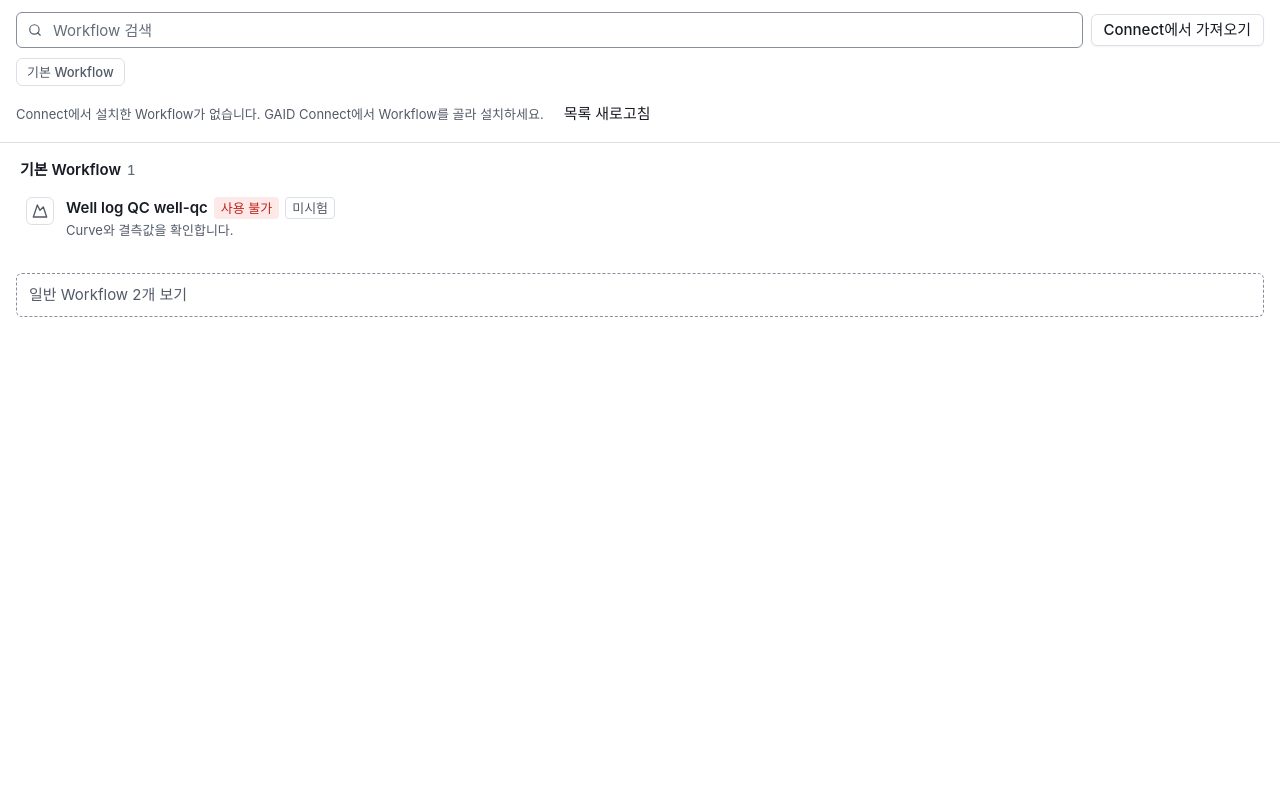
Test case: task catalogue and setup › separates run record from readiness: unavailable
Expected: the text "사용 불가" is shown, [214,197,279,219]
Step 1. Click the button "Well log QC well-qc 사용 불가 미시험 Curve와 결측값을 확인합니다." → point(137, 208), box [16,187,1264,249]
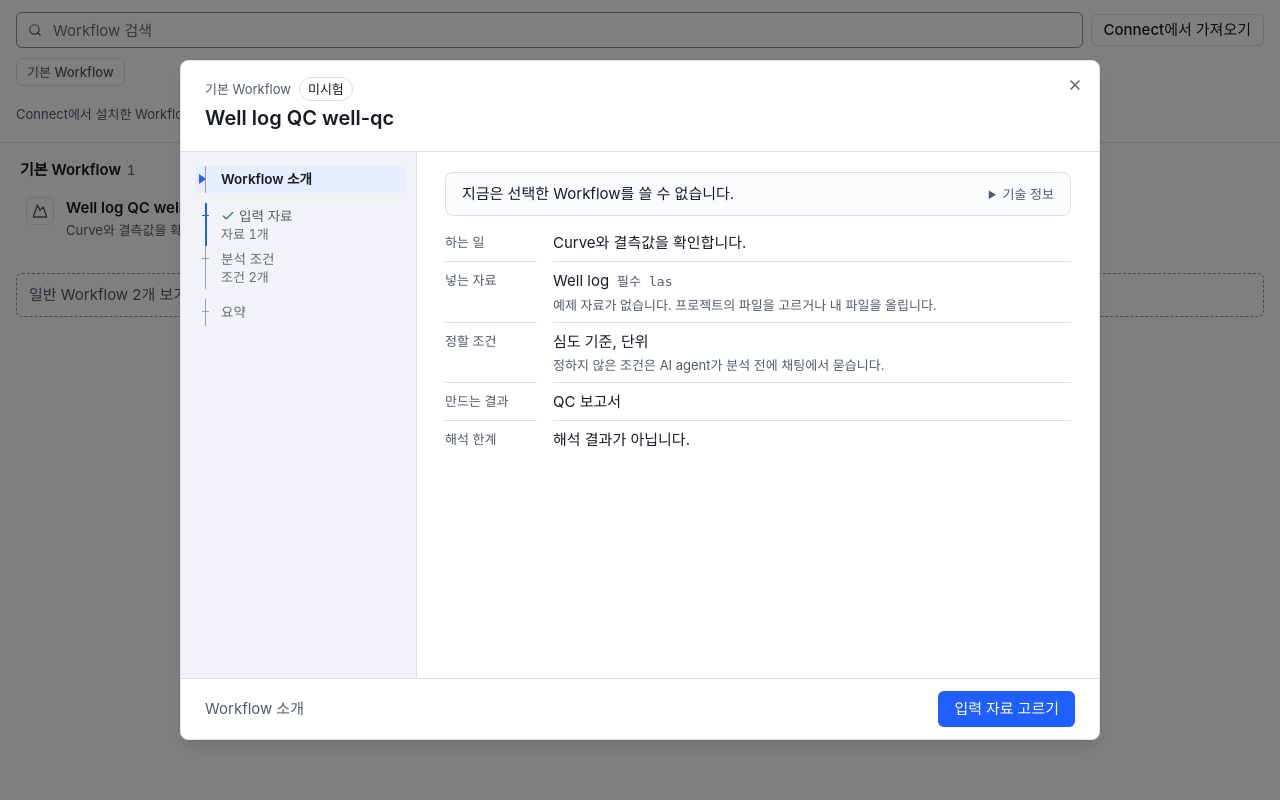
Now the text "지금은 선택한 Workflow를 쓸 수 없습니다." is shown, box [462,184,734,202]
Now the element named "Workflow 소개" is shown, box [445,172,1071,216]
Step 2. Click the tab "입력 자료 자료 1개" → point(300, 224), box [195,202,406,246]
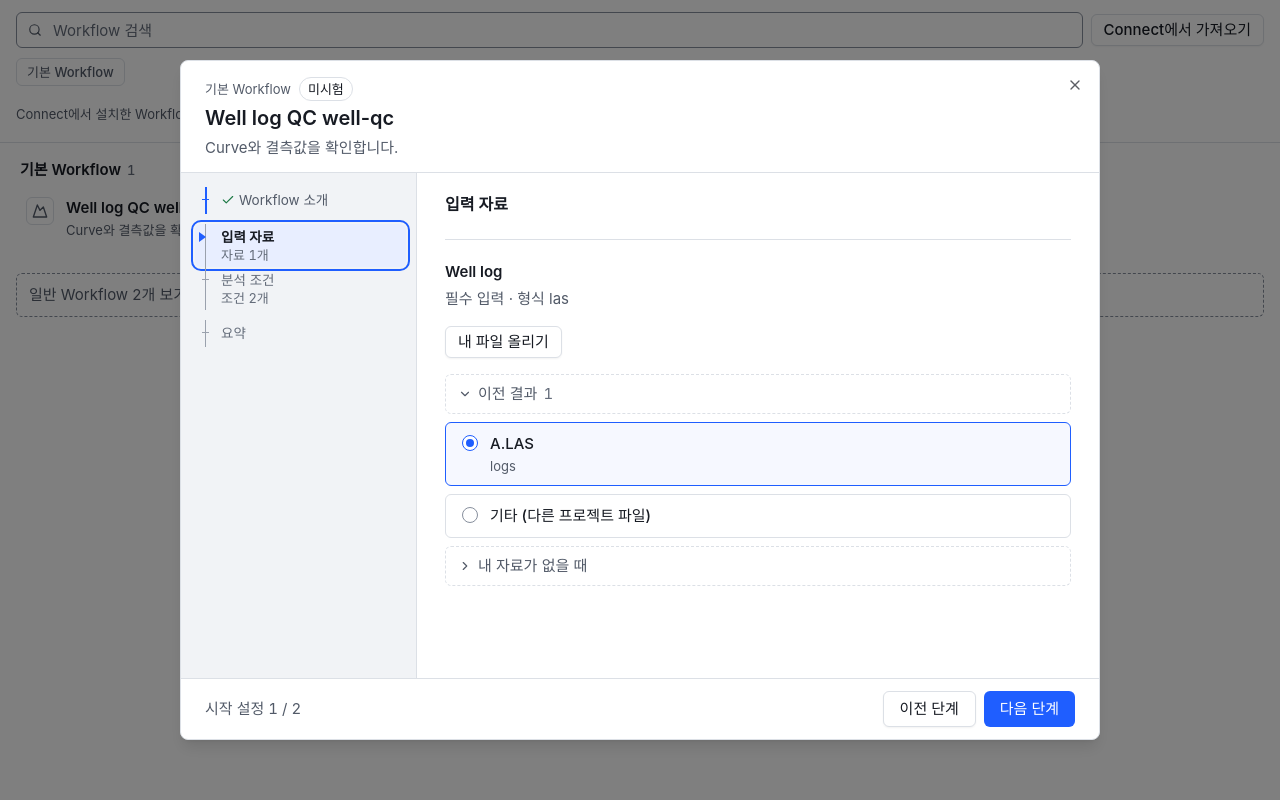
Step 3. Click the tab "요약" → point(300, 333), box [195,320,406,346]
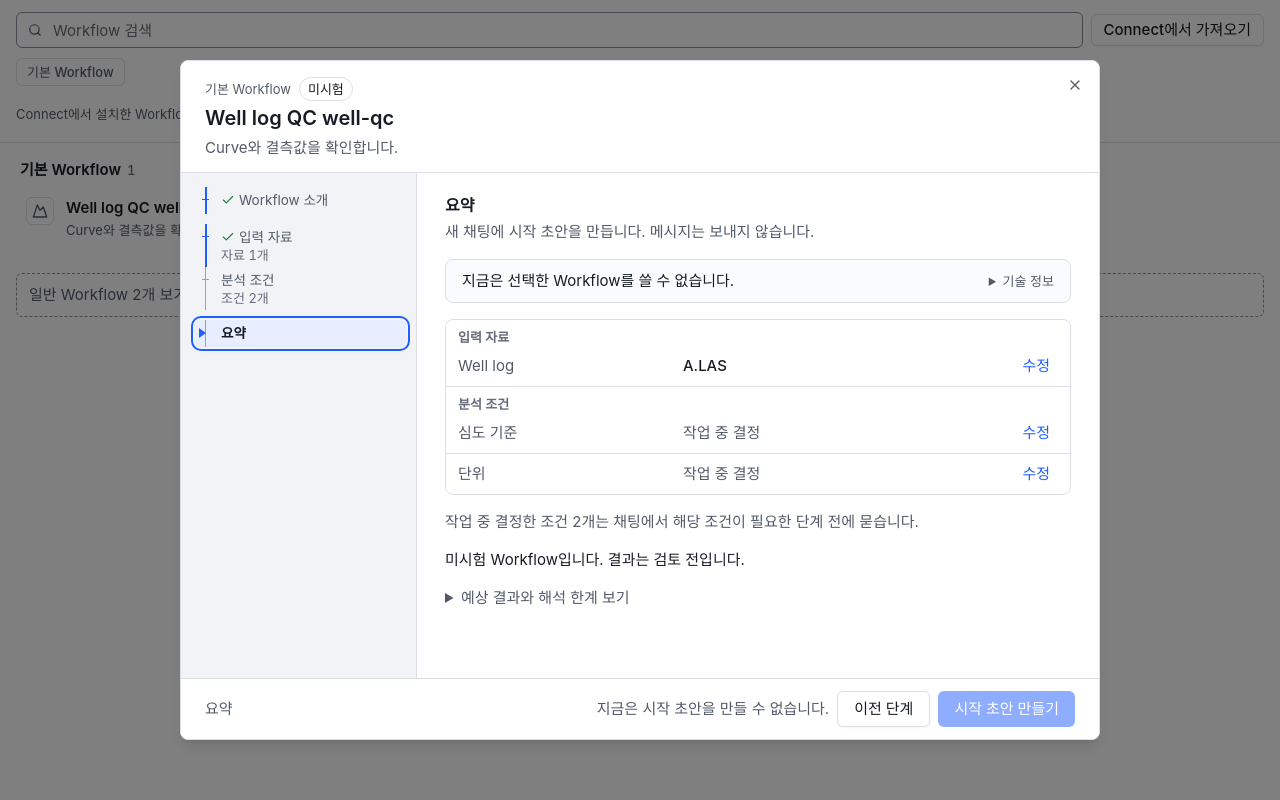
Now the button "시작 초안 만들기" is disabled, box [938,691,1075,727]
